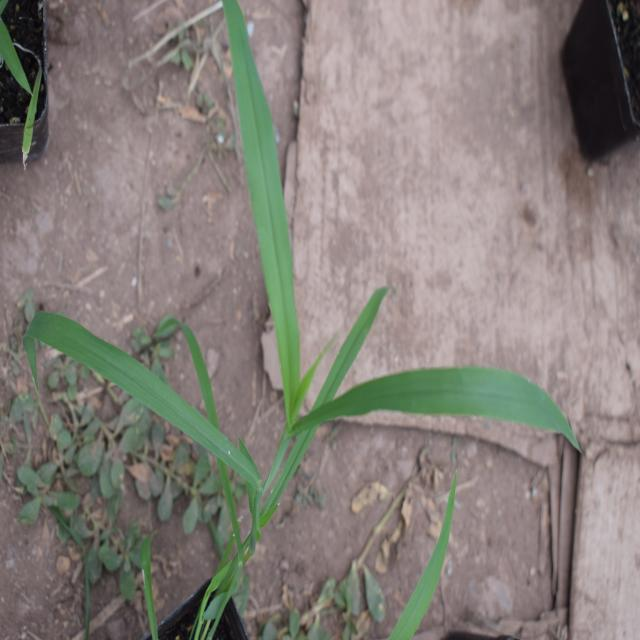crabgrass: (48, 16, 536, 502)
